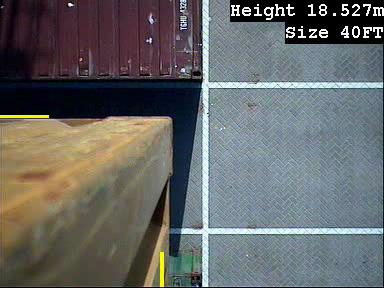groundmarker_2: (194, 146, 241, 248)
